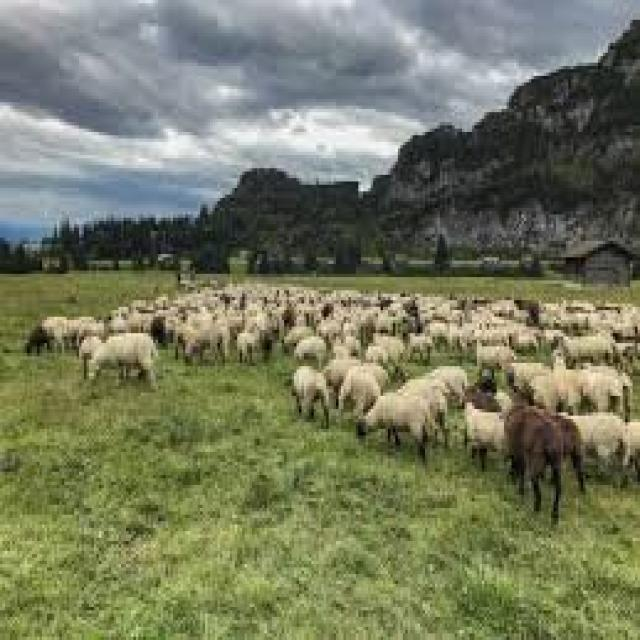Boar: (501, 399, 558, 510), (352, 399, 432, 464), (22, 281, 68, 374), (84, 330, 156, 379), (172, 313, 232, 367), (288, 370, 333, 424), (559, 406, 587, 488), (580, 414, 638, 452), (468, 319, 512, 369), (460, 399, 496, 458), (400, 373, 453, 410), (341, 366, 378, 414), (366, 323, 398, 365), (408, 320, 438, 364), (237, 330, 256, 378), (292, 336, 326, 361), (559, 373, 563, 408)
